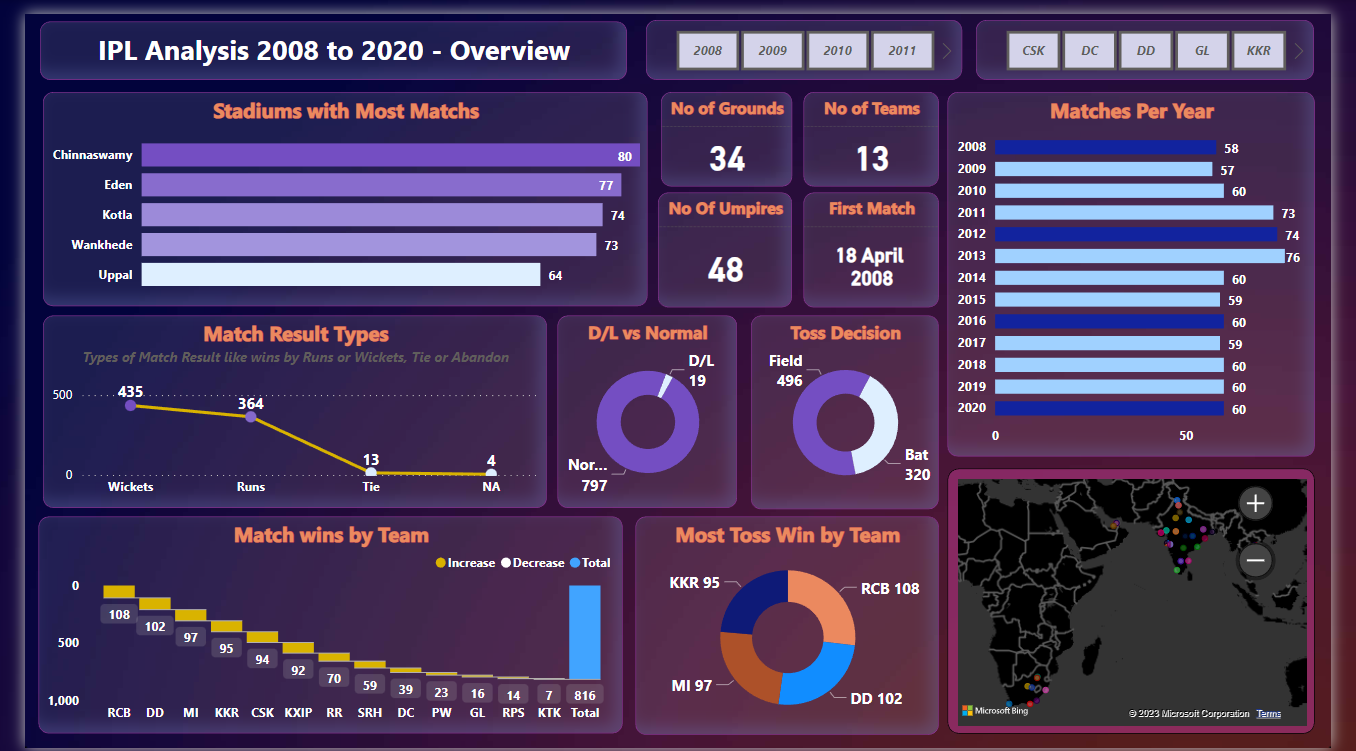

Layout of this report page (visuals, bound fields, positions):
{"tool":"powerbi","page":{"name":"Overview","canvas":[1280,720],"ordinal":0},"visuals":[{"type":"textbox","box":[15.1,7.6,575.4,57.5],"z":0},{"type":"barChart","title":"Matches Per Year","fields":{"Category":["IPL Matches 2008-2020.date.Variation.Date Hierarchy.Year"],"Y":["CountNonNull(IPL Matches 2008-2020.id)"]},"box":[904.3,77.1,360,357.1],"z":1000},{"type":"barChart","title":"Stadiums with Most Matchs","fields":{"Category":["IPL Matches 2008-2020.venue"],"Y":["CountNonNull(IPL Matches 2008-2020.id)"]},"box":[17.1,77.1,592.9,210],"z":2000},{"type":"donutChart","title":"Most Toss Win by Team","fields":{"Y":["CountNonNull(Match_Details.toss_winner)"],"Category":["Match_Details.team1"]},"box":[598.6,492.9,297.1,214.3],"z":3000},{"type":"waterfallChart","title":"Match wins by Team","fields":{"Category":["Team Wise Wining Type.Winner"],"Y":["Sum(Team Wise Wining Type.No_OF_Wins)"]},"box":[12.9,492.9,572.9,212.9],"z":4000},{"type":"donutChart","title":"Toss Decision","fields":{"Category":["IPL Matches 2008-2020.toss_decision"],"Y":["CountNonNull(IPL Matches 2008-2020.toss_decision)"]},"box":[711.4,295.7,184.3,190],"z":5000},{"type":"donutChart","title":"D/L vs Normal","fields":{"Category":["IPL Matches 2008-2020.method"],"Y":["CountNonNull(IPL Matches 2008-2020.team1)"]},"box":[521.4,295.7,175.7,188.6],"z":6000},{"type":"lineChart","title":"Match Result Types","fields":{"Category":["IPL Matches 2008-2020.result"],"Y":["CountNonNull(IPL Matches 2008-2020.team1)"]},"box":[17.1,295.7,494.3,188.6],"z":7000},{"type":"map","fields":{"Category":["IPL Matches 2008-2020.city"],"Series":["IPL Matches 2008-2020.venue"]},"box":[904.3,445.7,360,260],"z":8000},{"type":"slicer","fields":{"Values":["IPL Matches 2008-2020.date.Variation.Date Hierarchy.Year"]},"box":[608.6,5.7,310,58.6],"z":9000},{"type":"slicer","title":"Team List","fields":{"Values":["IPL Matches 2008-2020.team1"]},"box":[932.9,5.7,331.4,58.6],"z":10000},{"type":"card","title":"No of Grounds","fields":{"Values":["Count(IPL Matches 2008-2020.venue)"]},"box":[622.9,77.1,128.6,92.9],"z":11000},{"type":"card","title":"No of Teams","fields":{"Values":["Count(IPL Matches 2008-2020.team1)"]},"box":[762.9,77.1,132.9,92.9],"z":12000},{"type":"card","title":"No Of Umpires","fields":{"Values":["Count(IPL Matches 2008-2020.umpire1)"]},"box":[620,174.3,131.4,112.9],"z":13000},{"type":"card","title":"First Match","fields":{"Values":["Min(IPL Matches 2008-2020.date)"]},"box":[762.9,174.3,132.9,112.9],"z":14000}]}

Visuals, with their boxes in screenshot pixels (x1, y1, x2, y2), scaled from the page's 1280x720 canvas onto the 1356x751 screenshot:
textbox: <region>16, 8, 626, 68</region>
"Matches Per Year" barChart: <region>958, 80, 1339, 453</region>
"Stadiums with Most Matchs" barChart: <region>18, 80, 646, 299</region>
"Most Toss Win by Team" donutChart: <region>634, 514, 949, 738</region>
"Match wins by Team" waterfallChart: <region>14, 514, 621, 736</region>
"Toss Decision" donutChart: <region>754, 308, 949, 507</region>
"D/L vs Normal" donutChart: <region>552, 308, 738, 505</region>
"Match Result Types" lineChart: <region>18, 308, 542, 505</region>
map - IPL Matches 2008-2020.city x IPL Matches 2008-2020.venue: <region>958, 465, 1339, 736</region>
slicer - IPL Matches 2008-2020.date.Variation.Date Hierarchy.Year: <region>645, 6, 973, 67</region>
"Team List" slicer: <region>988, 6, 1339, 67</region>
"No of Grounds" card: <region>660, 80, 796, 177</region>
"No of Teams" card: <region>808, 80, 949, 177</region>
"No Of Umpires" card: <region>657, 182, 796, 300</region>
"First Match" card: <region>808, 182, 949, 300</region>
